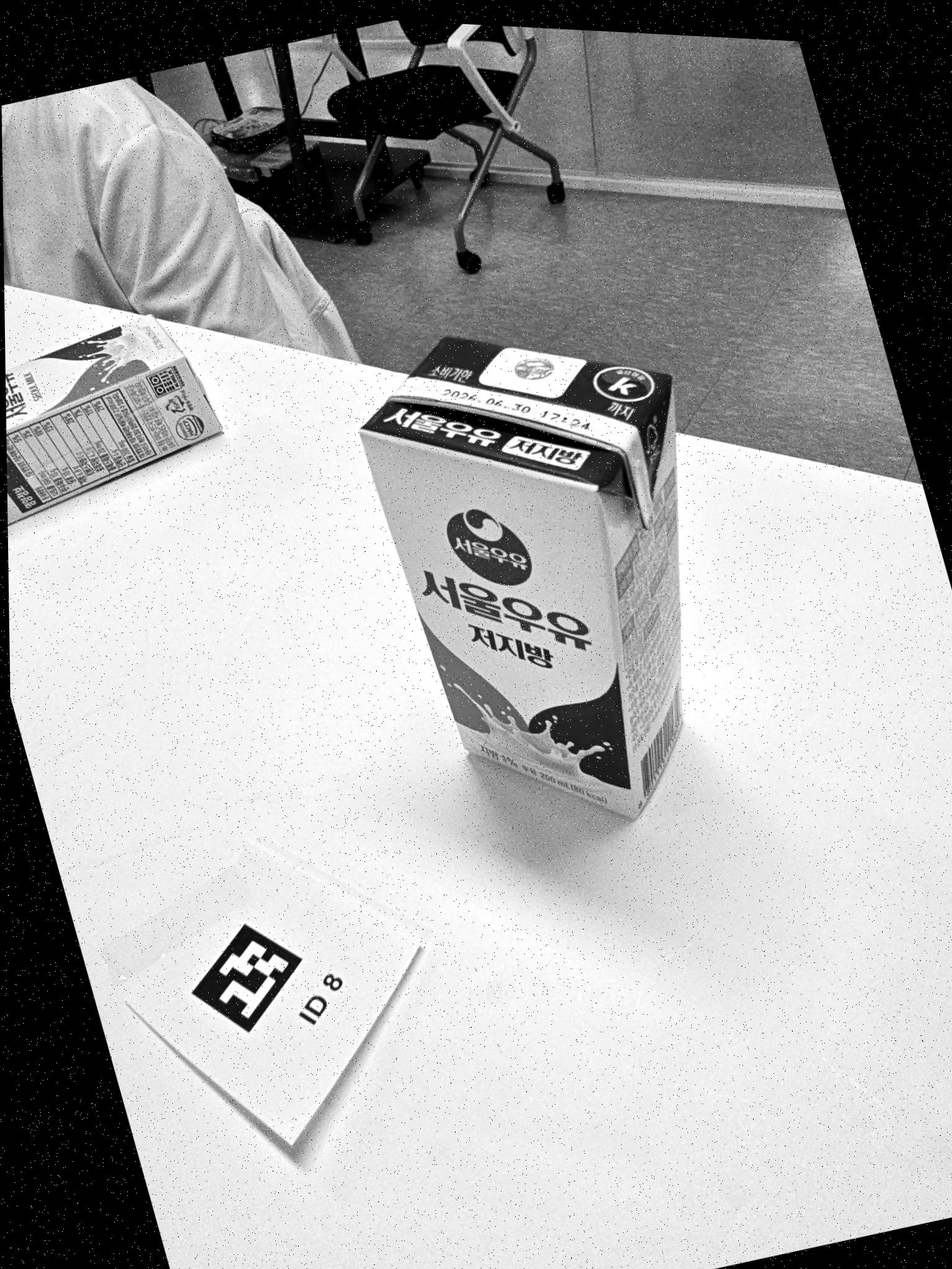milk_blue: (357, 334, 684, 819)
milk_green: (5, 310, 224, 528)
